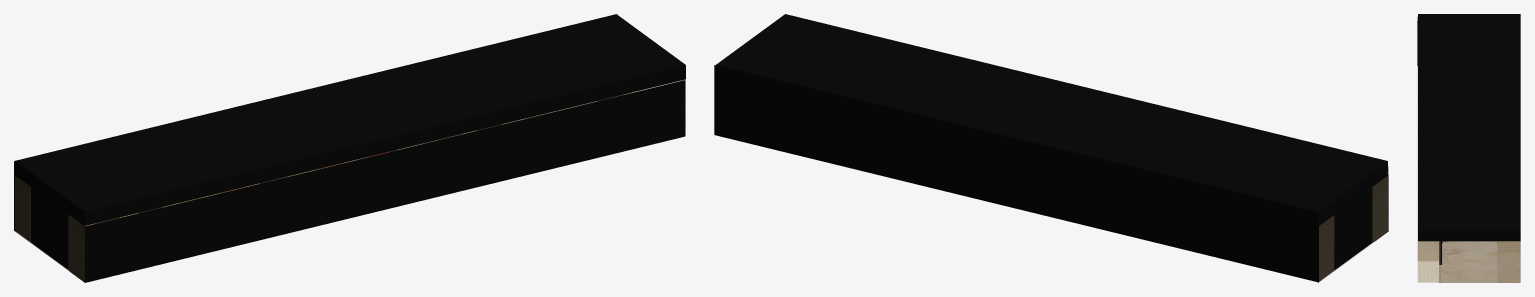
Rendered from hospital.glb.
3 renders of one model, left to right at view 1: azimuth 30°, elevation 25°; view 2: azimuth 150°, elevation 25°; view 3: azimuth 270°, elevation 25°, orthographic. The views are drawn at different scales.
Visible parts, largest first — view 1: Cube.013, Cube.010, Cube.006; view 2: Cube.013, Plane.010, Plane.006, Plane.009, Plane.008, Plane.007, Cube.010, Cube.006; view 3: Cube.013, Plane.001, Cube.012, Cube, Plane.002, Cube.011.
Part boxes in pixels (x1,y1,x2,y2): Cube.013: [15, 14, 685, 282]; Cube.010: [68, 198, 200, 281]; Cube.006: [15, 176, 30, 241]; Cube.013: [716, 14, 1388, 282]; Plane.010: [1117, 163, 1318, 282]; Plane.006: [714, 65, 815, 159]; Plane.009: [1016, 139, 1117, 233]; Plane.008: [916, 114, 1016, 208]; Plane.007: [815, 89, 915, 183]; Cube.010: [1372, 176, 1388, 242]; Cube.006: [1319, 216, 1333, 280]; Cube.013: [1417, 14, 1520, 241]; Plane.001: [1439, 246, 1520, 282]; Cube.012: [1417, 220, 1440, 282]; Cube: [1497, 241, 1520, 282]; Plane.002: [1442, 241, 1520, 246]; Cube.011: [1417, 190, 1438, 260].
Size of the model in its own units: 31.23 by 3.51 by 6.29.
18 materials, 8 textured.
